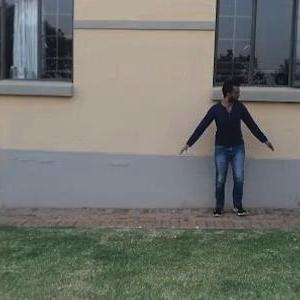land: (173, 73, 268, 233)
